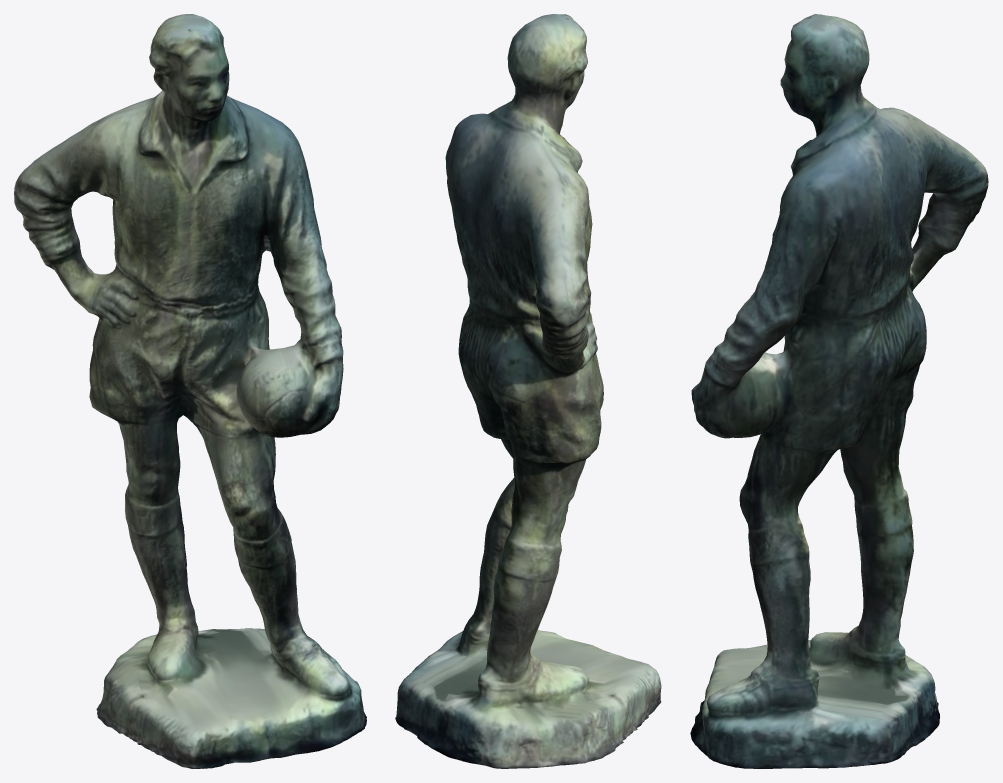
File: hashanozo-kagoshima-kosen.glb
3 views of the same model, side by side, from view 1: azimuth 30°, elevation 25°; view 2: azimuth 150°, elevation 25°; view 3: azimuth 270°, elevation 25° (orthographic). The views are drawn at different scales.
Visible parts, largest first — view 1: ObjectCapture; view 2: ObjectCapture; view 3: ObjectCapture.
Boxes of the visible parts, <box> form: ObjectCapture: <box>14,14,366,768</box>; ObjectCapture: <box>395,14,661,768</box>; ObjectCapture: <box>690,14,988,768</box>.
Bounding box in the file's own units: 0.7115 × 2 × 0.7895.
Materials: 1 (1 with a texture image).
